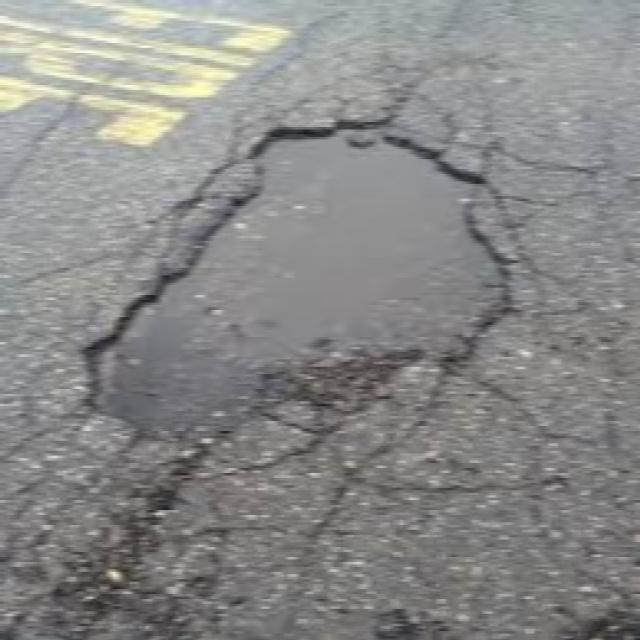Pothole: (79, 106, 543, 448)
